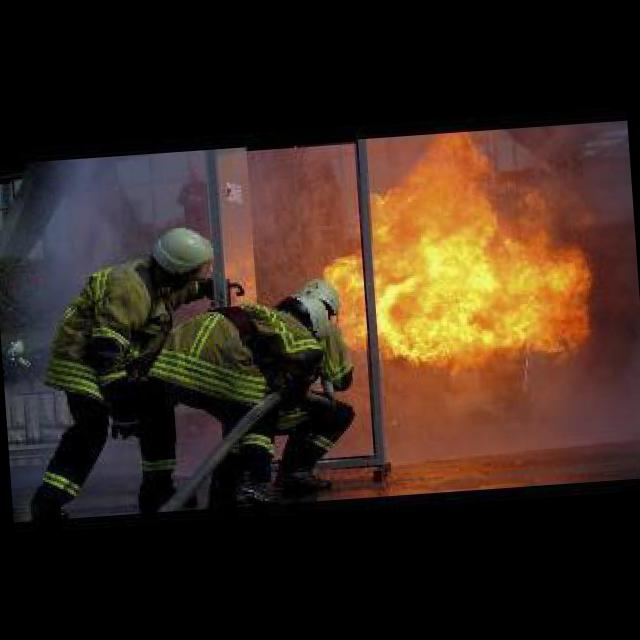Fire: (304, 135, 604, 376)
